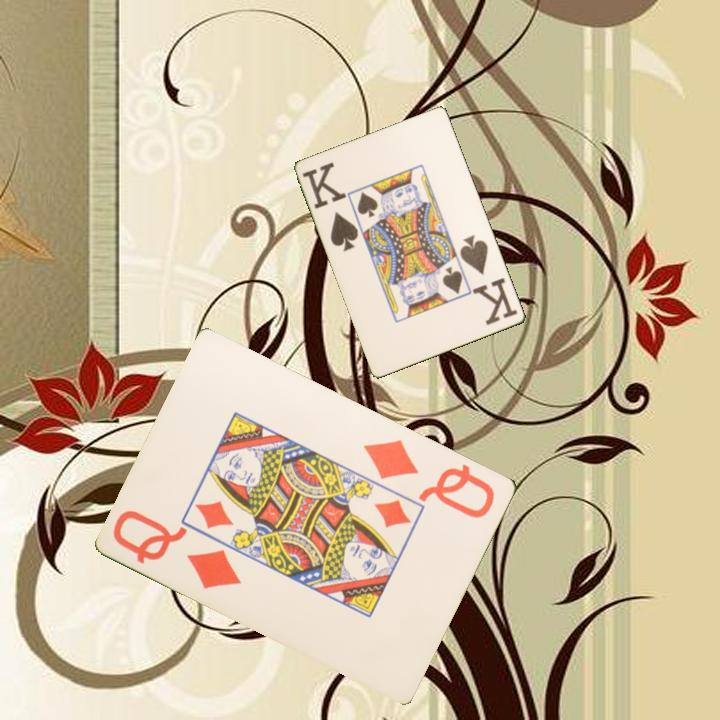Ks: (456, 231, 521, 328), (299, 158, 362, 255)
Qd: (360, 435, 499, 522), (109, 506, 246, 592)
